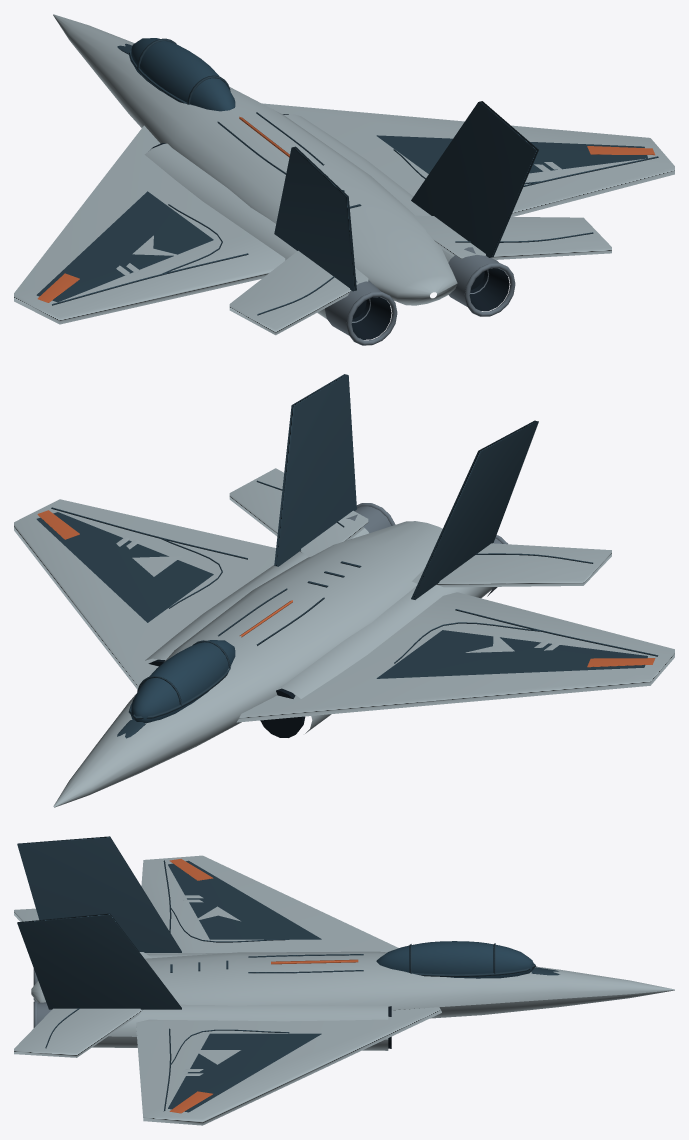
The model's file is player-vector-mobile-v2.glb.
3 views of the same model, one above another, from view 1: azimuth 30°, elevation 25°; view 2: azimuth 150°, elevation 25°; view 3: azimuth 270°, elevation 25° (orthographic). The views are drawn at different scales.
Visible parts, largest first — view 1: hull, trim, canopy, metal, dark, accent; view 2: hull, trim, canopy, accent, dark, metal; view 3: hull, trim, canopy, accent.
Part boxes in pixels (box(x1,y1,x2,y2)): hull: box(14, 14, 674, 335); trim: box(36, 38, 658, 315); canopy: box(131, 38, 235, 111); metal: box(325, 247, 515, 345); dark: box(150, 114, 509, 339); accent: box(37, 116, 655, 302); hull: box(14, 468, 674, 807); trim: box(36, 374, 658, 738); canopy: box(131, 640, 235, 723); accent: box(37, 510, 655, 667); dark: box(148, 659, 305, 737); metal: box(346, 503, 507, 596); hull: box(14, 855, 674, 1125); trim: box(17, 836, 559, 1112); canopy: box(376, 941, 534, 978); accent: box(169, 859, 358, 1113).
Bounding box in the file's own units: 17.8 × 4.66 × 18.9.
